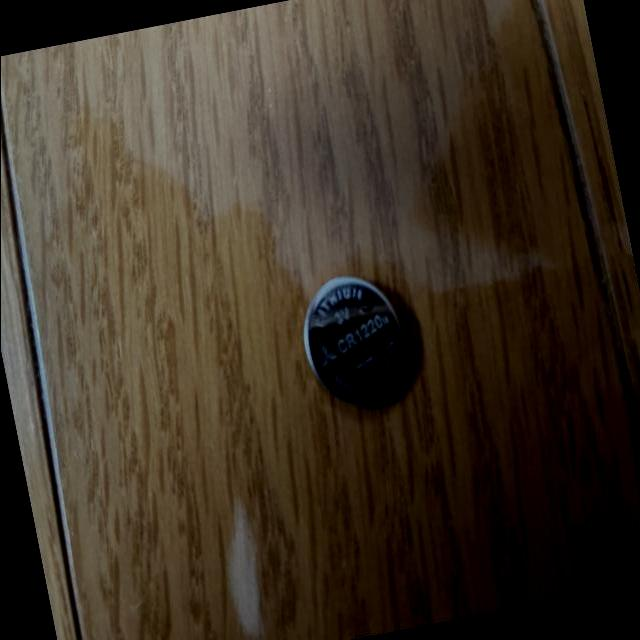COIN: (289, 262, 419, 416)
